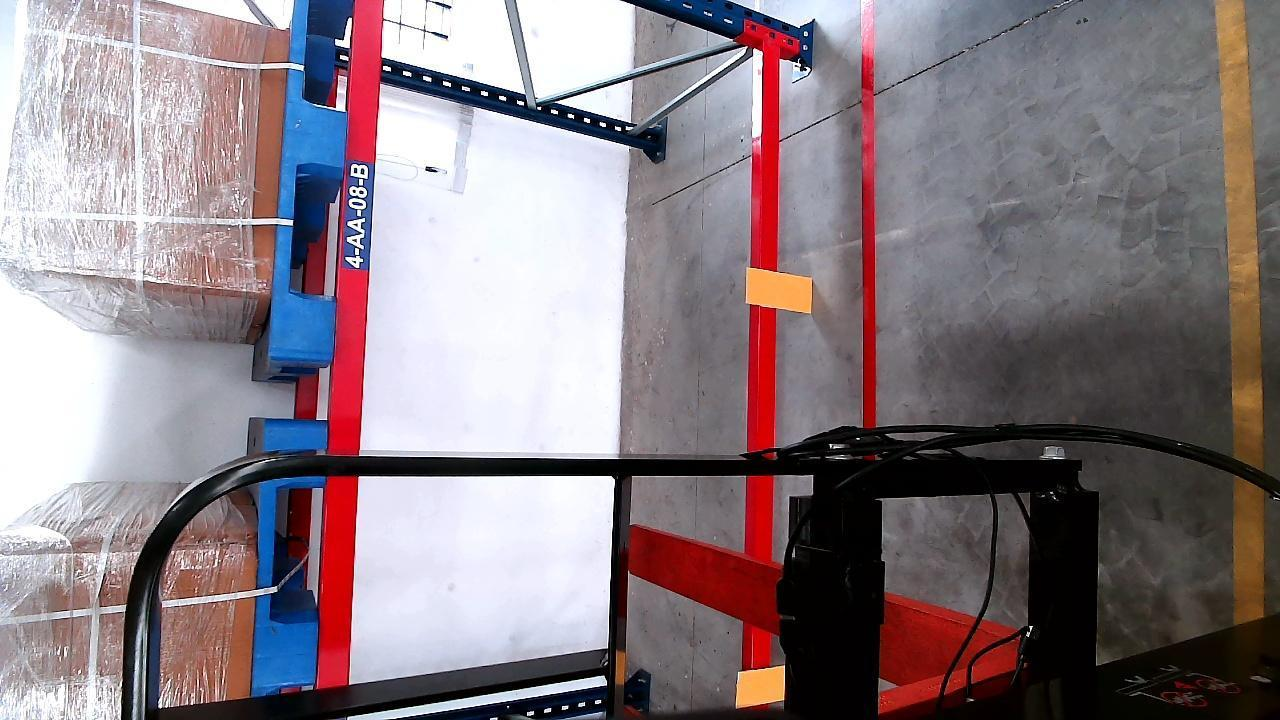h_rack: (317, 0, 383, 687), (750, 46, 785, 668)
orange_strip: (748, 268, 814, 310), (737, 662, 785, 708)
red_line: (858, 19, 880, 419)
small_pallet: (271, 2, 356, 363), (257, 419, 325, 693)
yellow_line: (1214, 0, 1269, 627)
